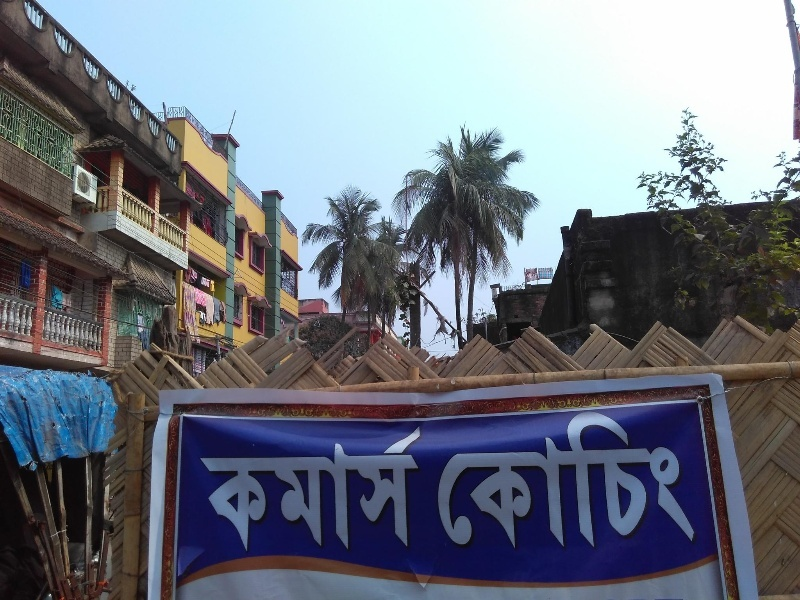text: (433, 405, 448, 554), (449, 405, 464, 554), (465, 405, 480, 554), (481, 405, 496, 554), (497, 405, 512, 554), (513, 405, 528, 554), (529, 405, 544, 554), (545, 405, 560, 554), (561, 405, 576, 554), (577, 405, 592, 554), (593, 405, 608, 554), (609, 405, 624, 554), (625, 405, 640, 554), (641, 405, 656, 554), (657, 405, 672, 554), (673, 405, 688, 554), (209, 425, 224, 557), (225, 425, 240, 557), (241, 425, 256, 557), (257, 425, 272, 557), (273, 425, 288, 557), (289, 425, 304, 557), (305, 425, 320, 557), (321, 425, 336, 557), (337, 425, 352, 557), (353, 425, 368, 557), (369, 425, 384, 557), (385, 425, 400, 557), (401, 425, 416, 557), (417, 425, 432, 557), (197, 425, 208, 557), (689, 405, 697, 554), (431, 405, 432, 554)
